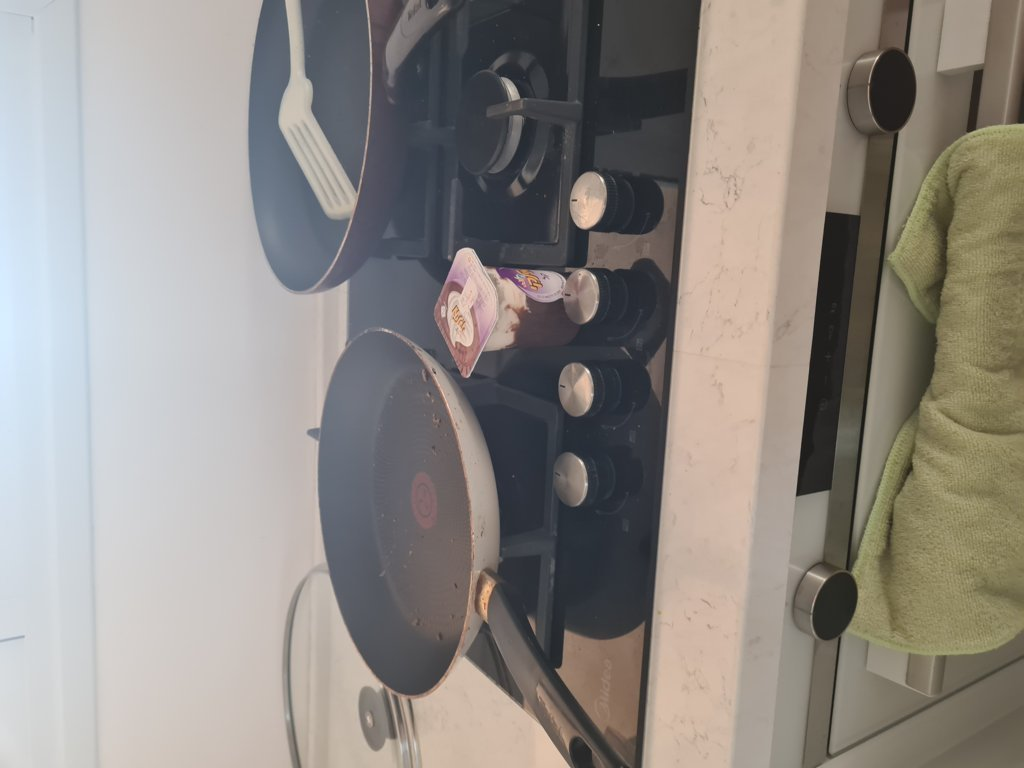milky: (438, 248, 572, 385)
